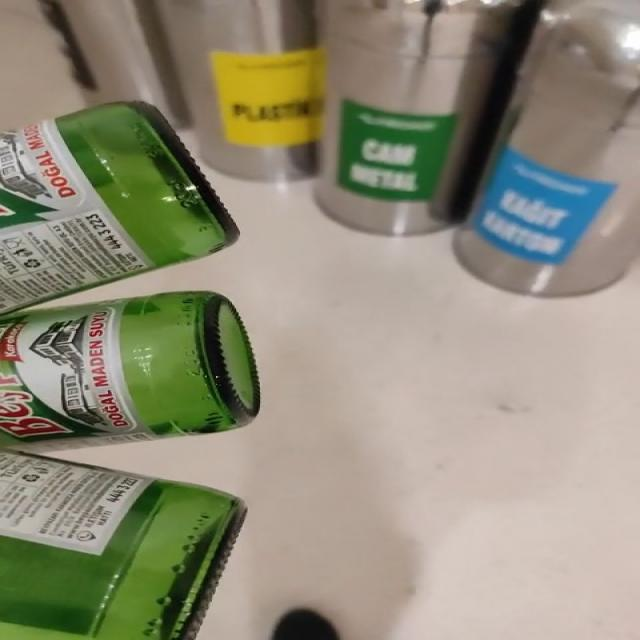glass: (0, 292, 260, 640), (0, 102, 237, 311)
